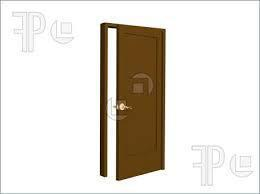doorhandle: (111, 95, 140, 116)
